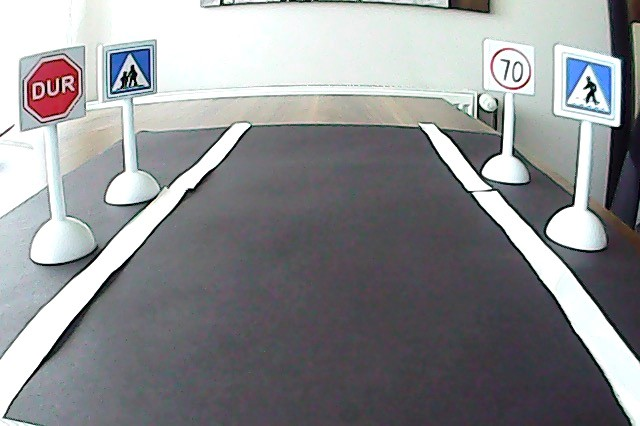pedestrian crossing: (560, 50, 616, 122)
school crossing: (103, 45, 155, 98)
speed limit 70: (486, 43, 535, 93)
stop sign: (19, 51, 87, 126)
